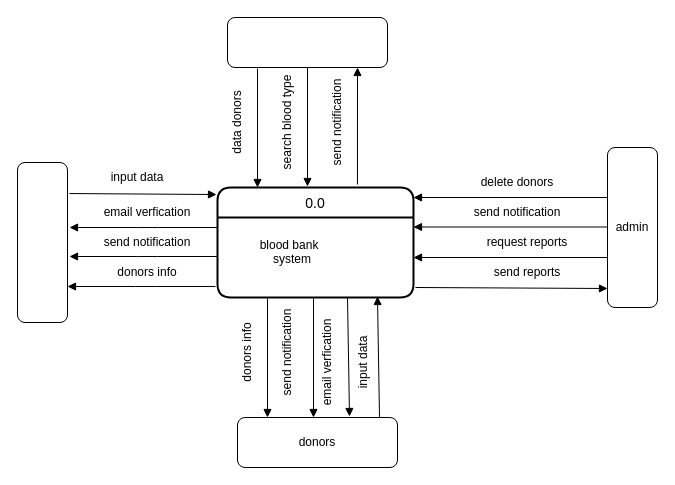
This 675x485 diagram has some shape labels left out. Each missing label, with the centre of its shape:
"center" belongs at pixel 42 242.
"user" belongs at pixel 307 42.
